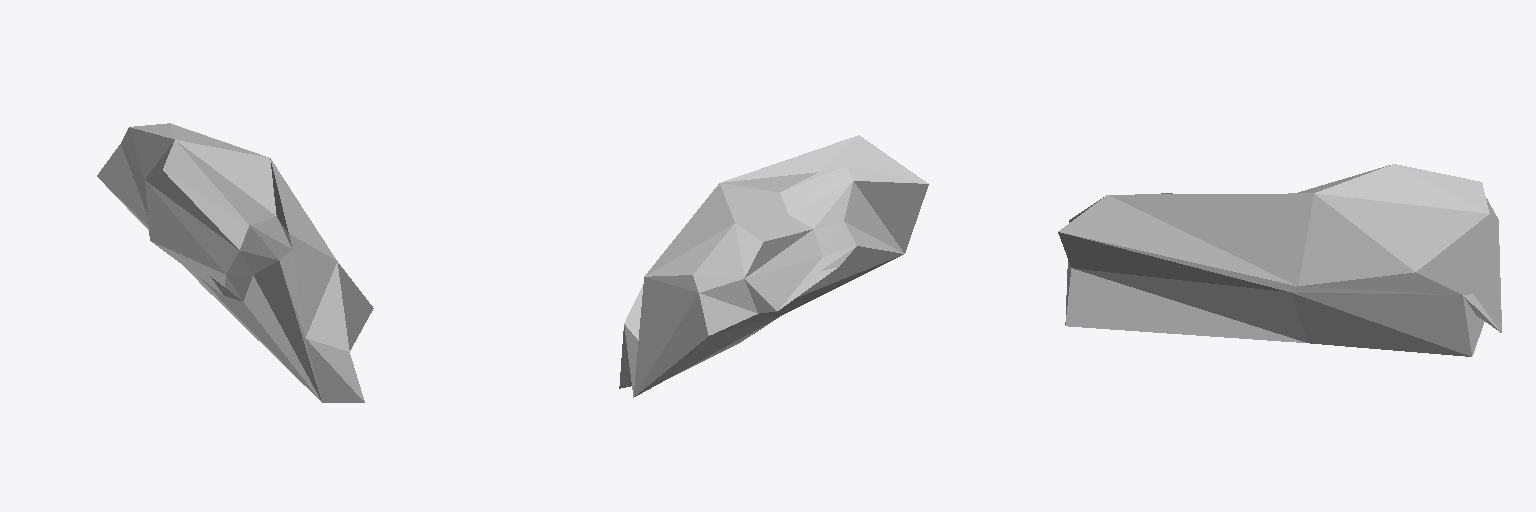
File: LeftGun.obj
The picture shows the model from 3 angles: view 1: azimuth 30°, elevation 25°; view 2: azimuth 150°, elevation 25°; view 3: azimuth 270°, elevation 25°; orthographic projection.
Parts seen in each view (by area): view 1: Cube.003; view 2: Cube.003; view 3: Cube.003.
Part boxes in pixels (x1,y1,x2,y2): Cube.003: (97,123,373,402); Cube.003: (619,135,928,397); Cube.003: (1058,164,1501,356).
Size of the model in its own units: 1.46 by 1.94 by 4.86.